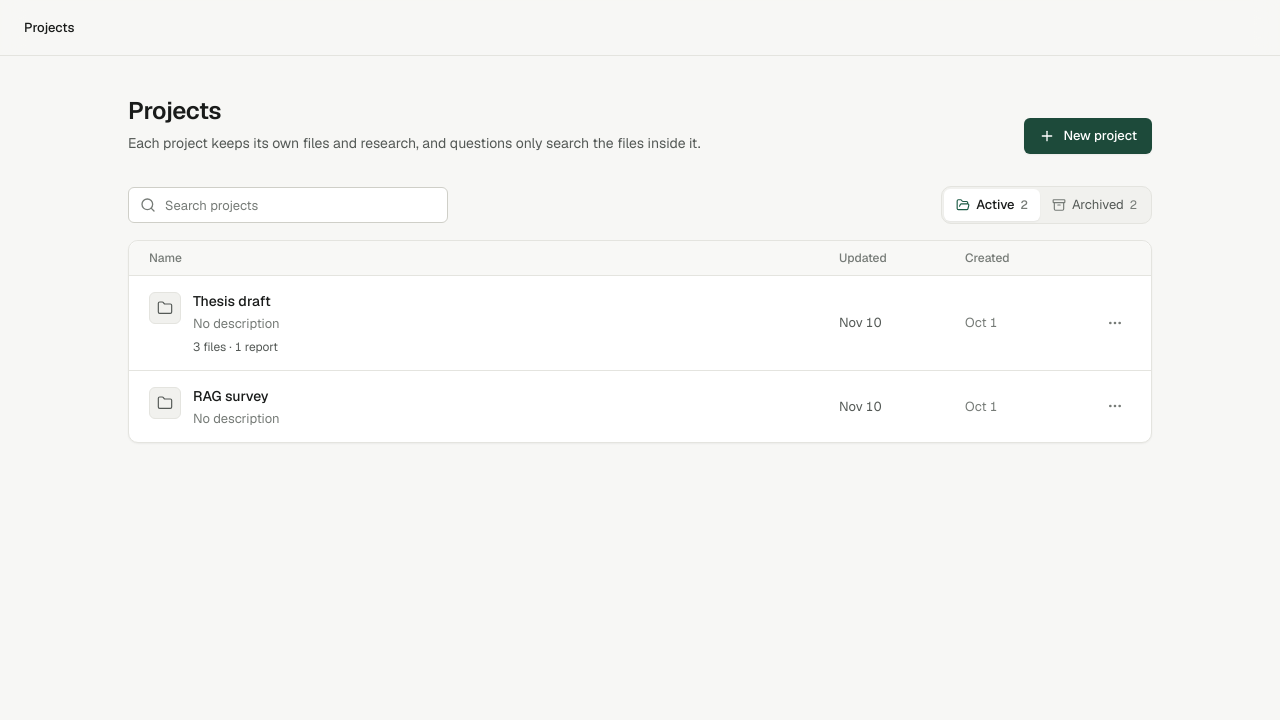
Projects archive › keeps the active project menu working
What coordinates should you click on to do the following:
click the button named "Actions for RAG survey"
I would click on:
 (1115, 406)
Its box is [1099,390,1131,422].
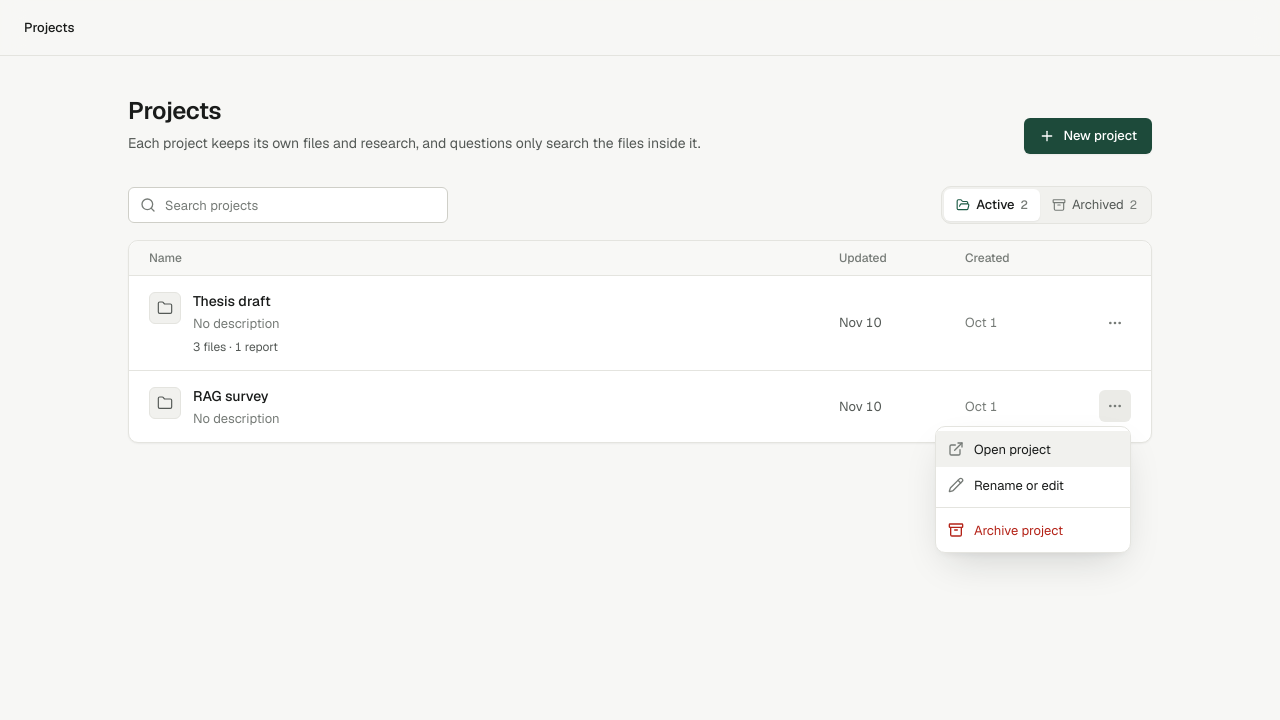
Now the menu items read "Open project", "Rename or edit", "Archive project", in this order, box [936,431,1130,467]; [936,467,1130,503]; [936,512,1130,548]
